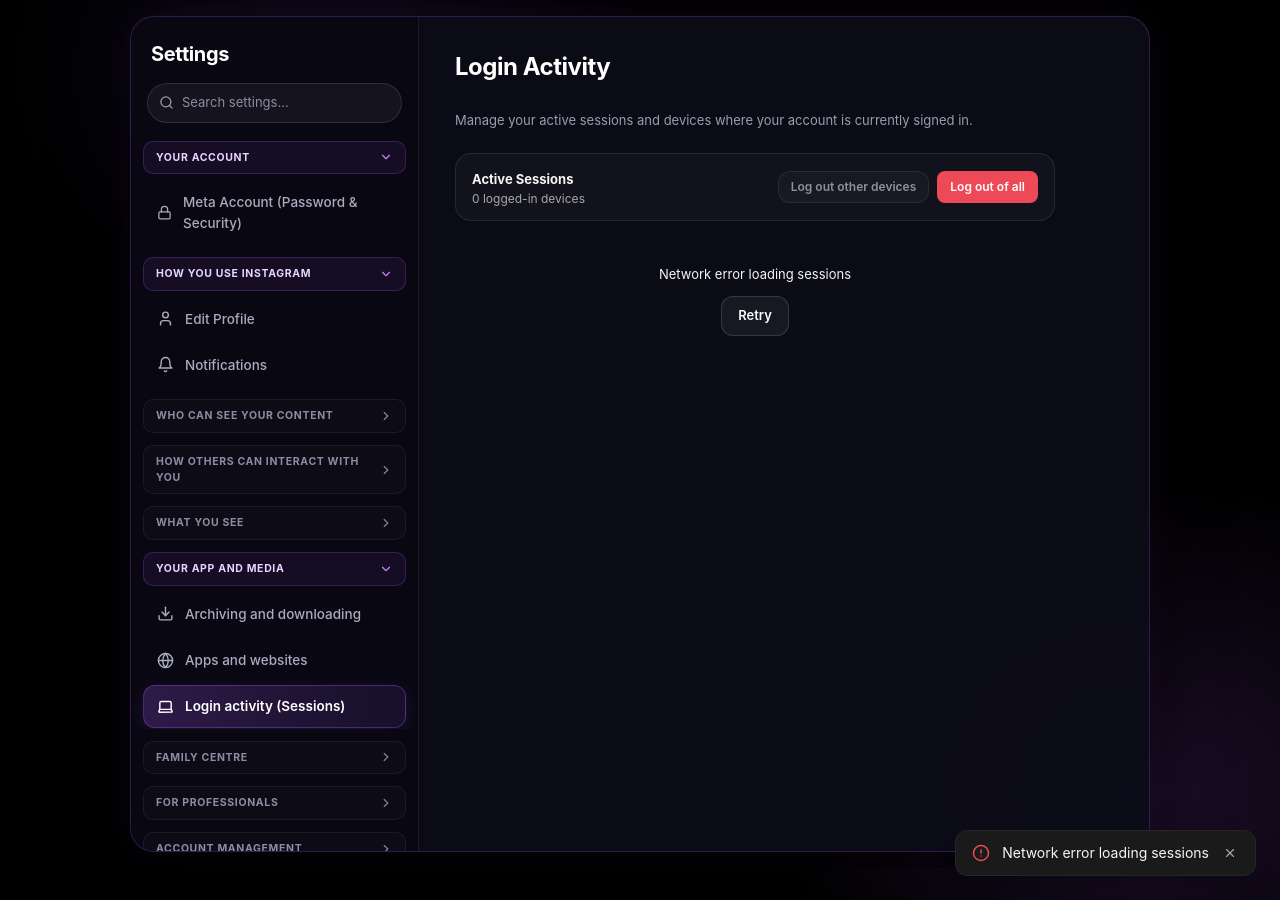
Scenario: Frontend Session Management & Settings Suite › 6. Handles session loading error and supports retry
The image size is (1280, 900).
Earlier steps of the test are not shown.
Check: the text "Network error loading sessions" below "logged-in device" is shown, box [659, 266, 851, 282]
Click the button "Retry": (755, 316) [721, 296, 789, 336]
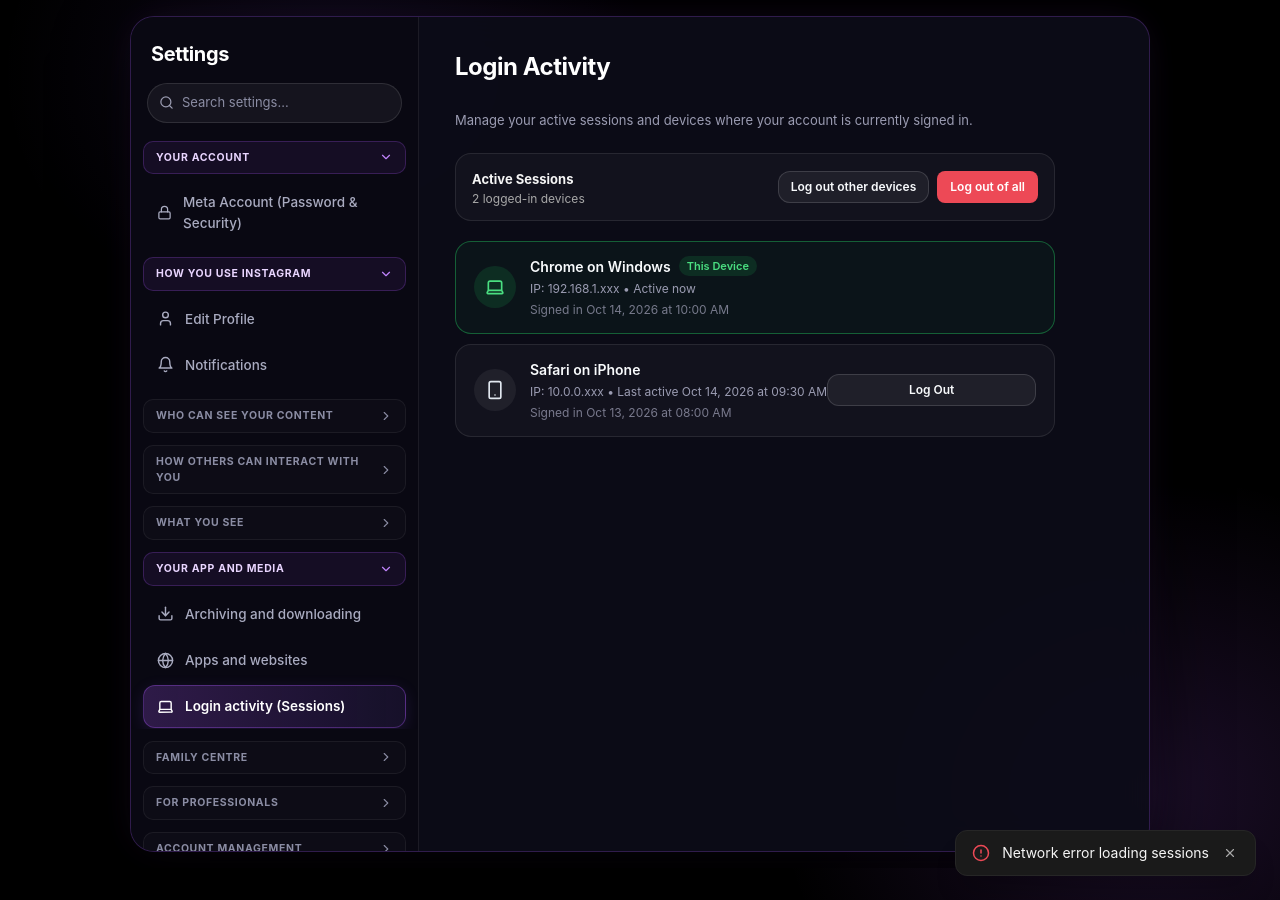
Check: the text "Chrome on Windows" is shown, box [530, 256, 671, 276]
